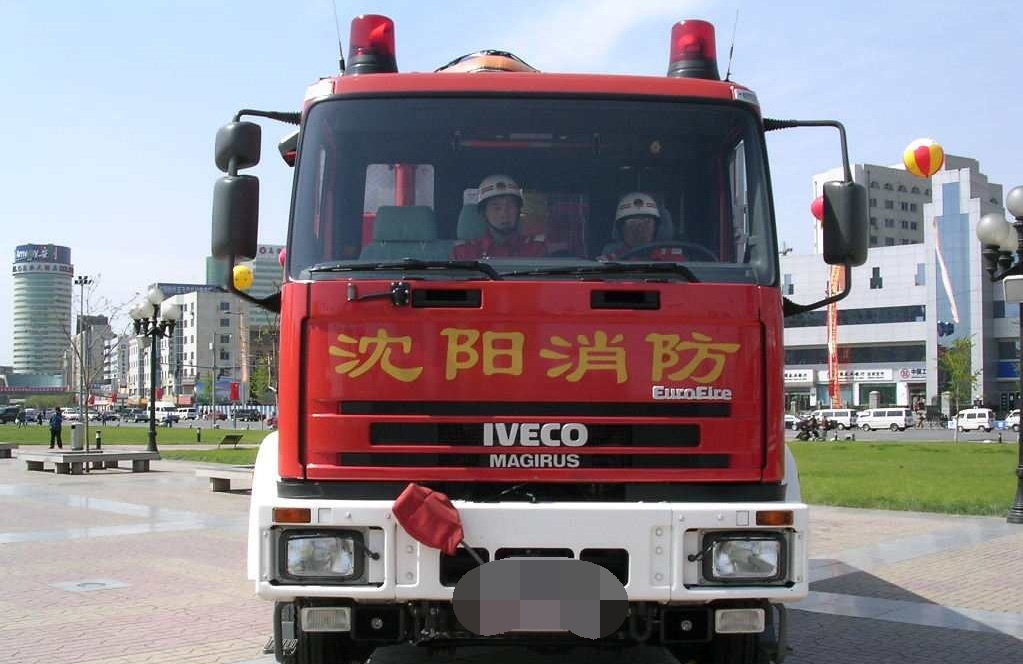fire engine: (204, 26, 875, 664)
